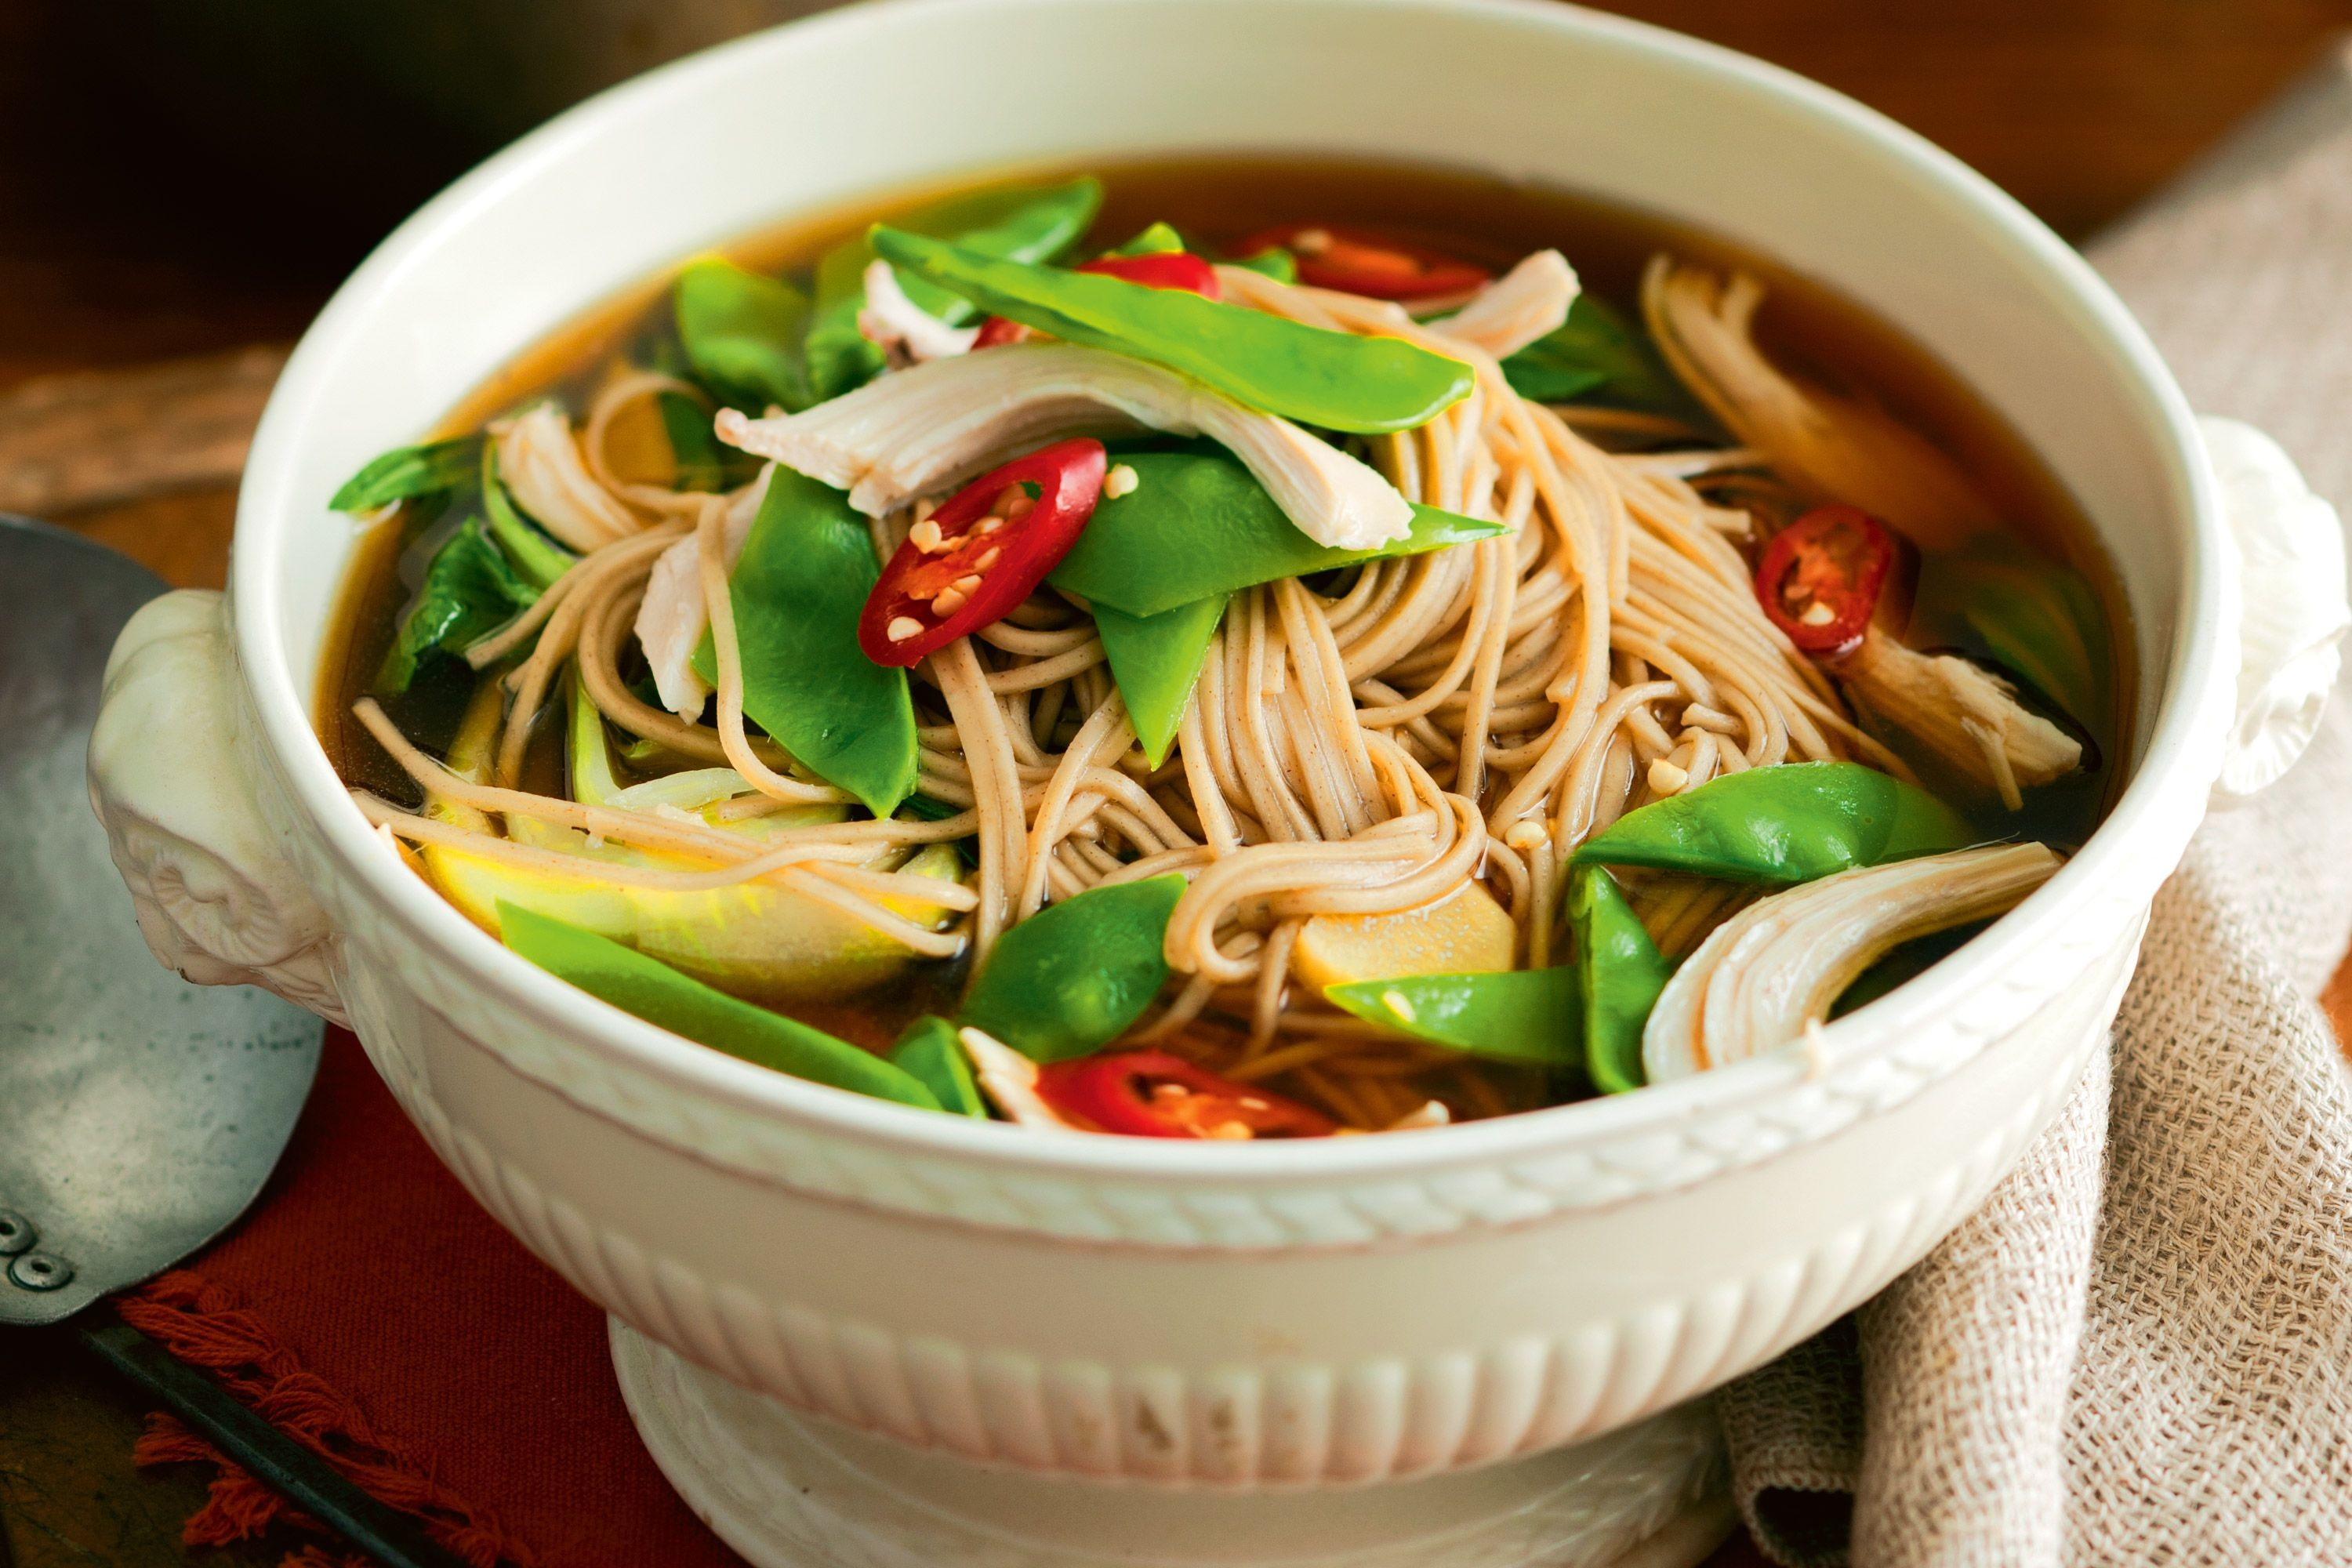Soba: (431, 215, 2039, 1134)
